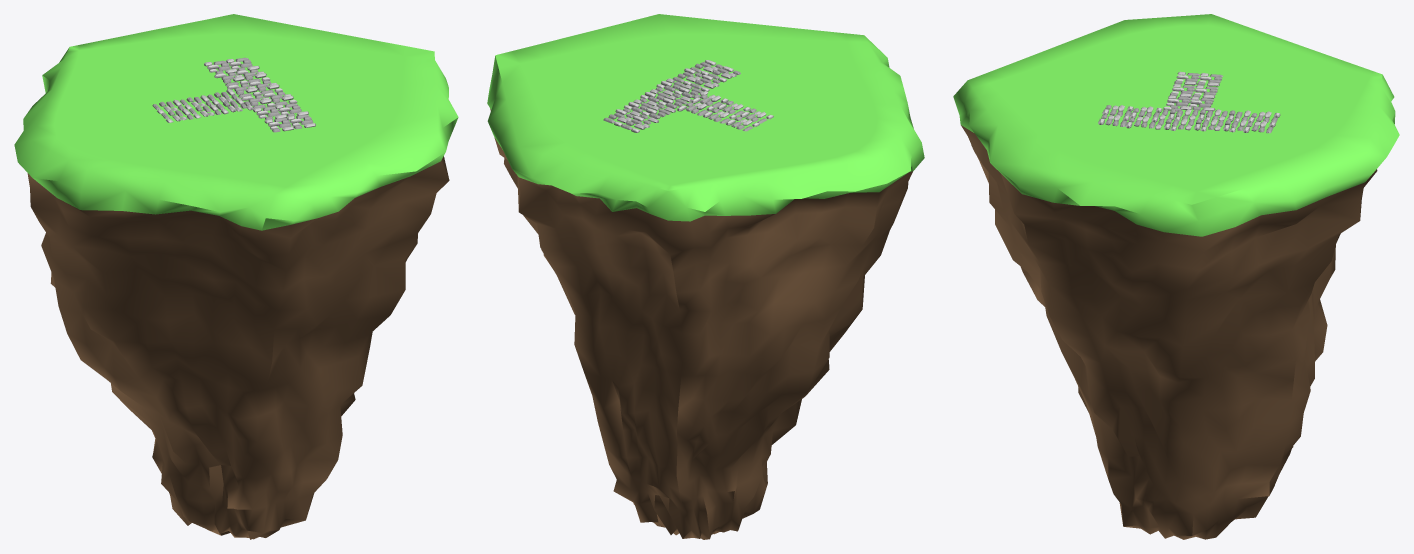
File: Island 1.fbx
3 renders of one model, left to right at view 1: azimuth 30°, elevation 25°; view 2: azimuth 150°, elevation 25°; view 3: azimuth 270°, elevation 25°, orthographic.
Parts seen in each view (by area): view 1: polySurface1, Pass; view 2: polySurface1, Pass; view 3: polySurface1, Pass.
Boxes of the visible parts, x1=… form: polySurface1: x1=14, y1=14, x2=458, y2=539; Pass: x1=152, y1=57, x2=315, y2=132; polySurface1: x1=487, y1=14, x2=924, y2=539; Pass: x1=603, y1=60, x2=773, y2=132; polySurface1: x1=953, y1=14, x2=1399, y2=539; Pass: x1=1098, y1=71, x2=1280, y2=133.
Bounding box in the file's own units: 1545 × 1556 × 1467.
